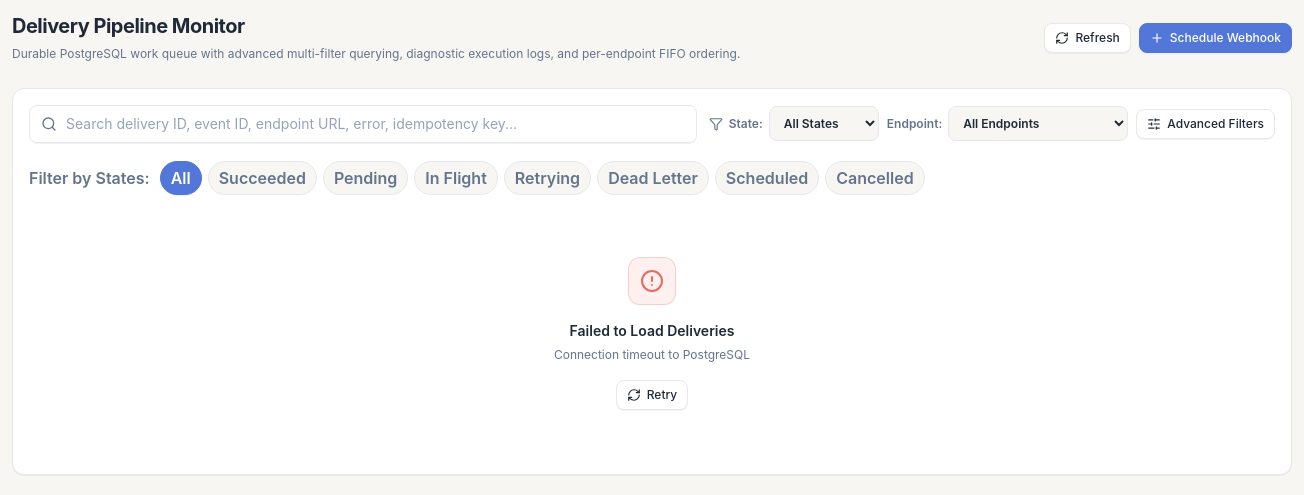
Scenario: DeliveriesPage Component › Error and Retry States › displays error card on API failure and retries on demand
Expected: the heading "Failed to Load Deliveries" is shown, [570,322,734,338]
Expected: the text "Connection timeout to PostgreSQL" is shown, [554,346,750,362]
Click the button "Retry". click: (652, 395)
box: [616,380,688,410]
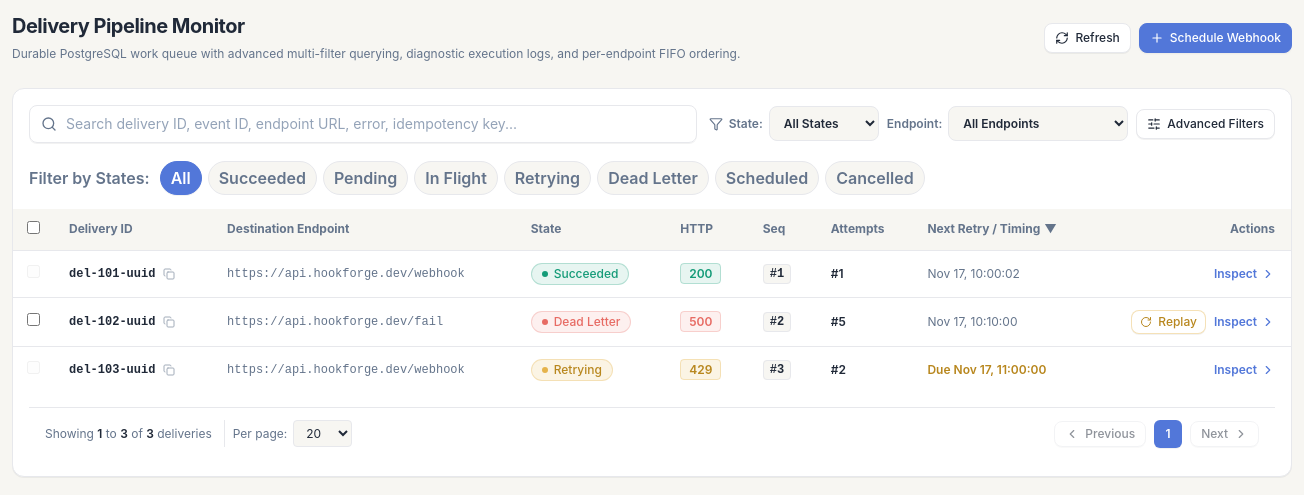
Now the text "del-101-uuid" is shown, box [69,266,155,282]
